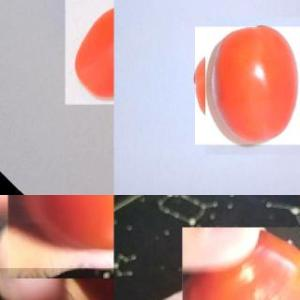tomato: (195, 27, 300, 145), (1, 195, 113, 267), (65, 0, 114, 104)
